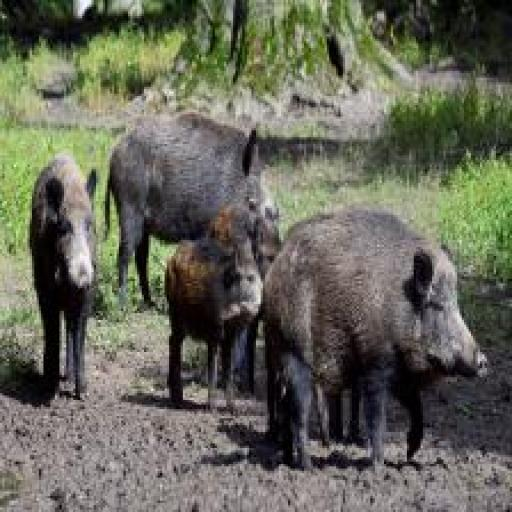Pig: (261, 206, 488, 470), (103, 110, 278, 307), (155, 236, 263, 409), (28, 149, 100, 401)
